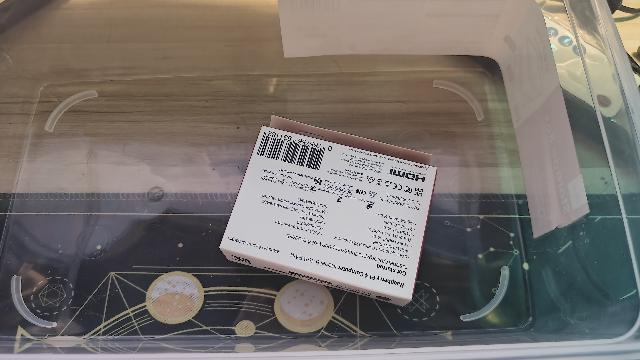rpi_box: (218, 113, 438, 308)
